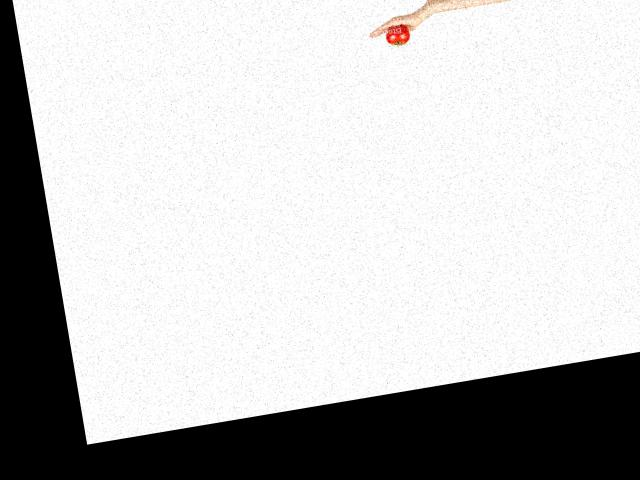tomato: (384, 23, 411, 46)
